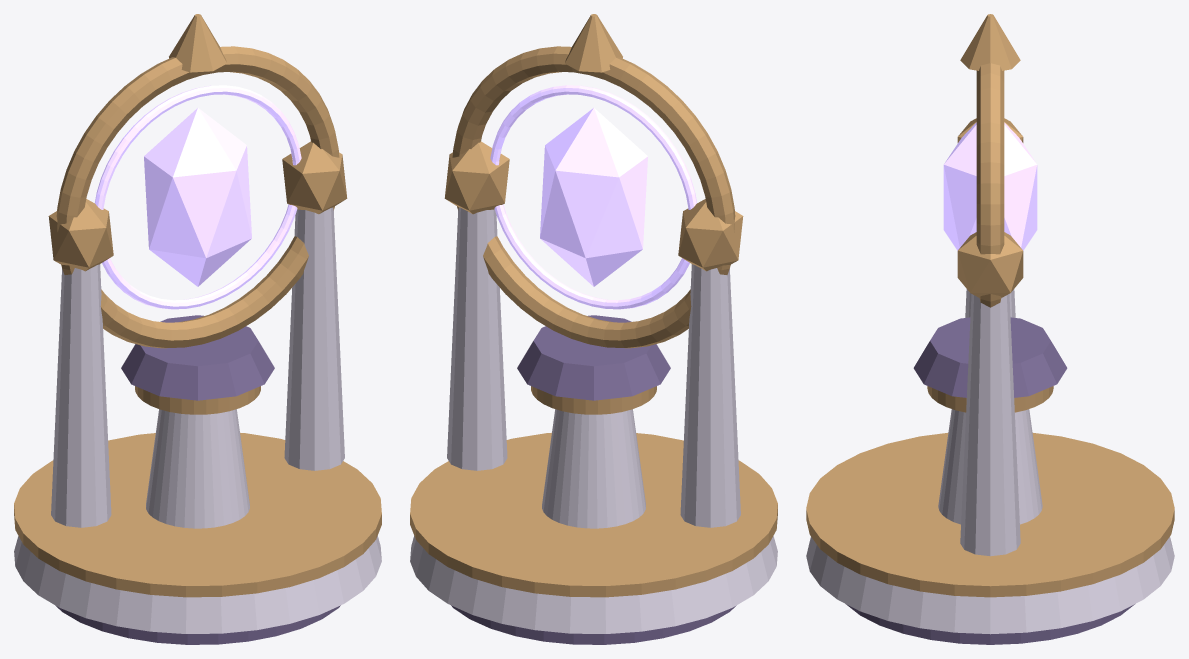
File: resonance-shrine.glb
The picture shows the model from 3 angles, left to right: view 1: azimuth 30°, elevation 25°; view 2: azimuth 150°, elevation 25°; view 3: azimuth 270°, elevation 25°; orthographic projection.
Parts seen in each view (by area): view 1: PRP_foot_gold_rim, PRP_orbit_gold, HERO_outer_gem, PRP_foot_pearl, PRP_lyre_post_-1, PRP_lyre_post_1, PRP_column, PRP_crystal_socket, PRP_orbit_lilac, PRP_lyre_finial_1, PRP_lyre_finial_-1, PRP_foot_shadow (+2 smaller); view 2: PRP_foot_gold_rim, PRP_orbit_gold, HERO_outer_gem, PRP_foot_pearl, PRP_lyre_post_-1, PRP_lyre_post_1, PRP_column, PRP_crystal_socket, PRP_orbit_lilac, PRP_lyre_finial_1, PRP_lyre_finial_-1, PRP_foot_shadow (+2 smaller); view 3: PRP_foot_gold_rim, PRP_foot_pearl, PRP_lyre_post_1, HERO_outer_gem, PRP_crystal_socket, PRP_orbit_gold, PRP_column, PRP_lyre_finial_1, PRP_foot_shadow, PRP_crown, PRP_column_collar.
Boxes of the visible parts, x1,y1,x2,y2 form: PRP_foot_gold_rim: (14, 432, 381, 597); PRP_orbit_gold: (56, 46, 339, 348); HERO_outer_gem: (144, 108, 251, 286); PRP_foot_pearl: (14, 536, 381, 633); PRP_lyre_post_-1: (51, 264, 111, 527); PRP_lyre_post_1: (284, 207, 344, 470); PRP_column: (146, 409, 249, 528); PRP_crystal_socket: (121, 315, 274, 400); PRP_orbit_lilac: (95, 85, 301, 309); PRP_lyre_finial_1: (282, 141, 347, 214); PRP_lyre_finial_-1: (48, 199, 113, 271); PRP_foot_shadow: (55, 605, 340, 644); PRP_foot_gold_rim: (410, 432, 777, 597); PRP_orbit_gold: (452, 46, 735, 348); HERO_outer_gem: (540, 108, 647, 286); PRP_foot_pearl: (410, 536, 777, 633); PRP_lyre_post_-1: (680, 264, 740, 527); PRP_lyre_post_1: (447, 207, 507, 470); PRP_column: (542, 409, 645, 528); PRP_crystal_socket: (517, 315, 670, 400); PRP_orbit_lilac: (490, 85, 696, 309); PRP_lyre_finial_1: (444, 141, 509, 214); PRP_lyre_finial_-1: (678, 199, 743, 271); PRP_foot_shadow: (451, 605, 736, 644); PRP_foot_gold_rim: (806, 433, 1174, 597); PRP_foot_pearl: (806, 537, 1174, 634); PRP_lyre_post_1: (960, 294, 1020, 556); HERO_outer_gem: (943, 122, 1037, 250); PRP_crystal_socket: (913, 317, 1067, 397); PRP_orbit_gold: (976, 63, 1004, 307); PRP_column: (938, 409, 1042, 524); PRP_lyre_finial_1: (957, 232, 1023, 297); PRP_foot_shadow: (846, 604, 1134, 644); PRP_crown: (960, 14, 1020, 70); PRP_column_collar: (927, 386, 1053, 412).
Bounding box in the file's own units: 1.34 × 2.26 × 1.34.
